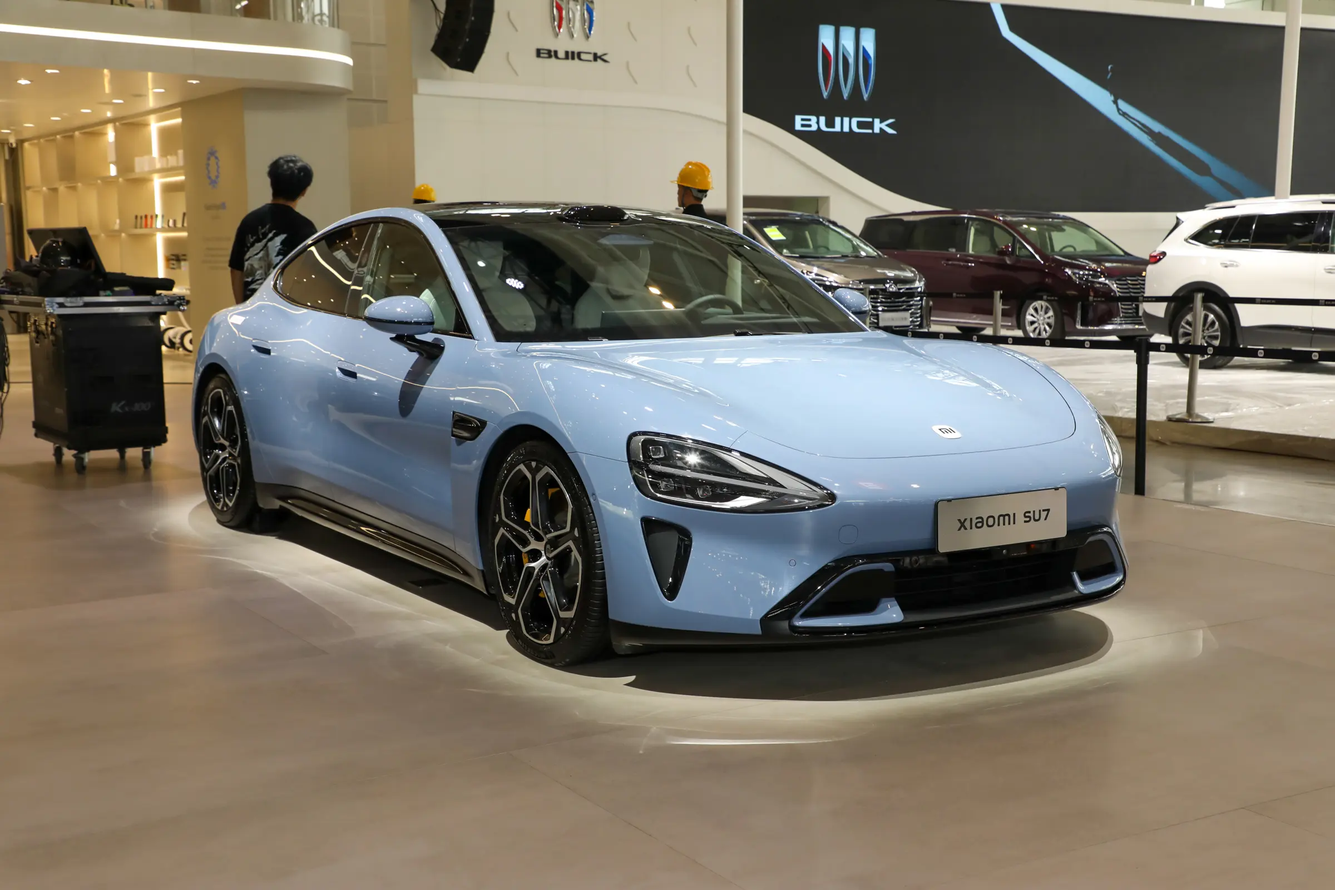other: (840, 193, 1164, 346), (1141, 184, 1335, 362)
su7: (181, 205, 1144, 657)
